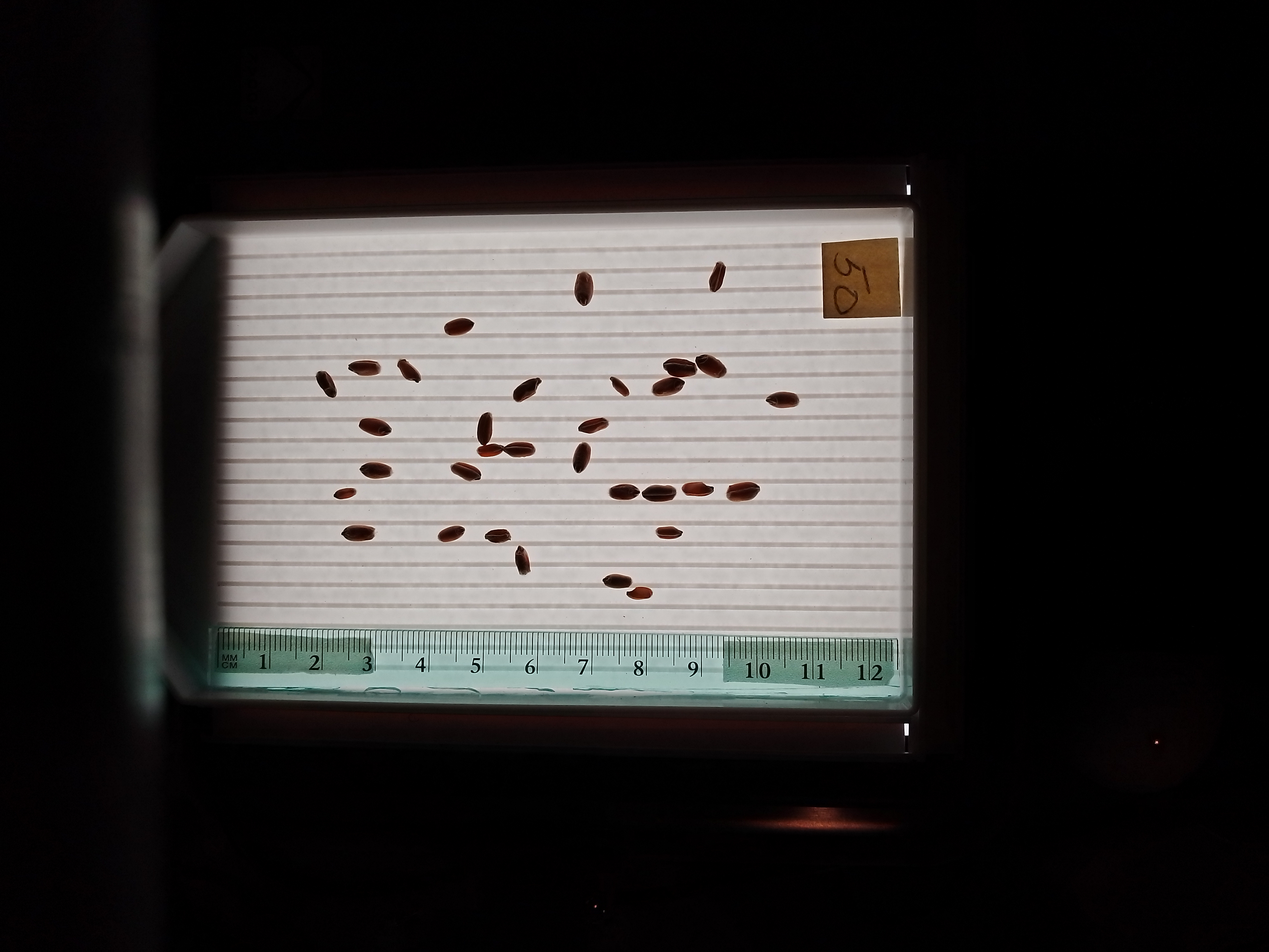seed mask: (573, 270, 594, 307), (512, 377, 542, 402), (695, 355, 727, 378), (664, 358, 697, 379), (727, 482, 759, 502), (359, 418, 391, 437), (443, 318, 475, 337), (397, 359, 422, 383), (314, 371, 337, 397), (766, 391, 799, 409), (708, 260, 726, 293), (653, 378, 684, 397), (348, 360, 382, 377), (451, 462, 481, 481), (361, 461, 392, 479), (643, 485, 675, 502), (477, 413, 493, 446), (343, 526, 375, 542), (574, 443, 591, 473), (504, 442, 535, 458), (579, 418, 608, 434), (683, 482, 713, 497), (438, 526, 465, 542), (610, 485, 638, 500), (604, 574, 631, 589), (516, 547, 531, 574), (477, 444, 503, 458), (486, 529, 511, 543), (610, 377, 629, 395), (656, 527, 682, 539), (628, 587, 652, 599), (334, 488, 355, 499)
